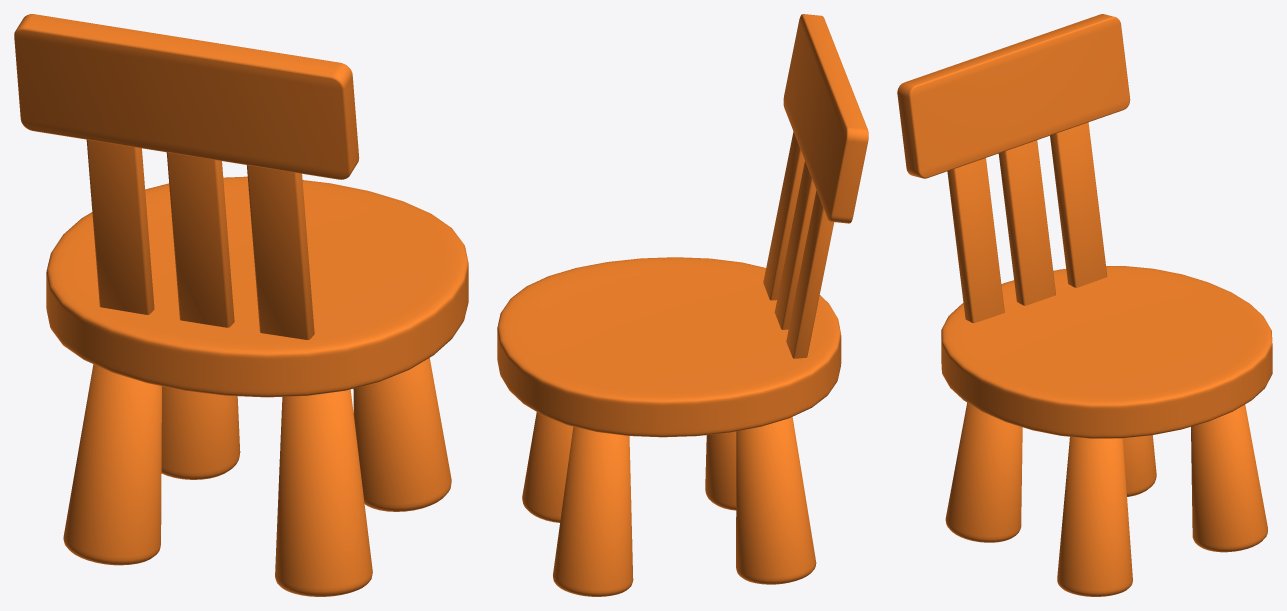
The model's file is sedia_arancio_LOD0.fbx.
The picture shows the model from 3 angles, left to right: view 1: azimuth 30°, elevation 25°; view 2: azimuth 150°, elevation 25°; view 3: azimuth 270°, elevation 25°; orthographic projection. The views are drawn at different scales.
Visible parts, largest first — view 1: sedia_arancio; view 2: sedia_arancio; view 3: sedia_arancio.
Part boxes in pixels (<box>): sedia_arancio: <box>14,14,468,596</box>; sedia_arancio: <box>497,14,868,596</box>; sedia_arancio: <box>897,14,1272,596</box>.
Size of the model in its own units: 174 by 219 by 171.
